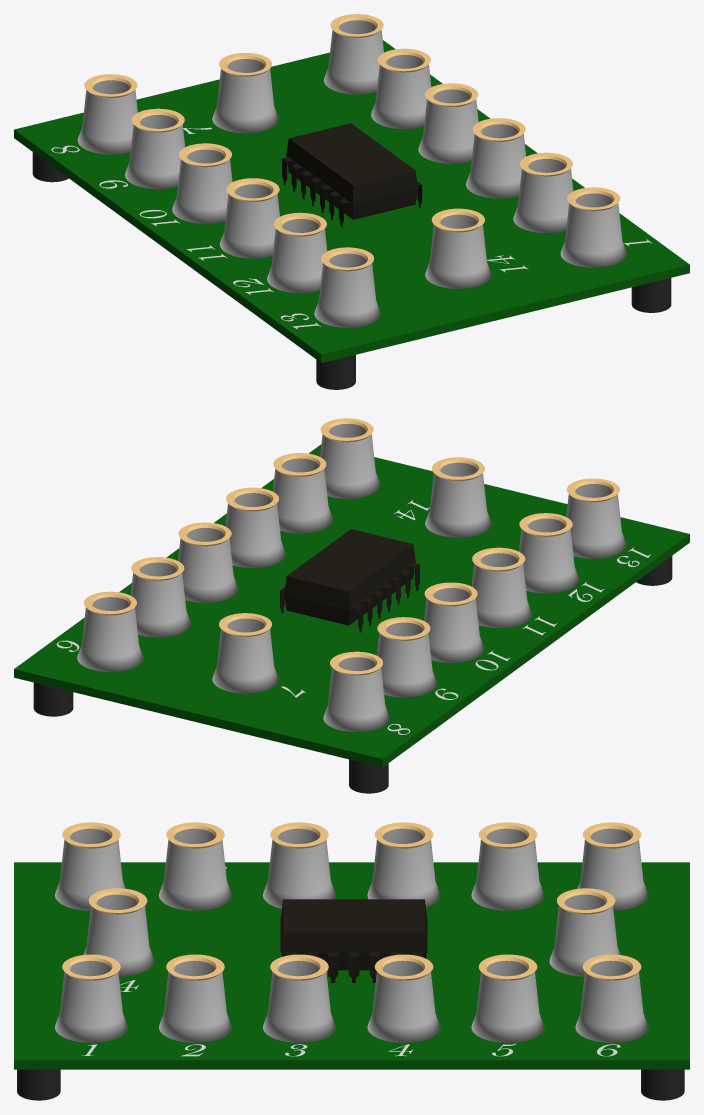
File: boolean_plate_vol2.fbx
3 renders of one model, top to bottom at view 1: azimuth 30°, elevation 25°; view 2: azimuth 150°, elevation 25°; view 3: azimuth 270°, elevation 25°, orthographic. The views are drawn at different scales.
Parts seen in each view (by area): view 1: Cube, Cube.001, Cylinder.017, Cylinder.008, Cylinder.025, Cylinder.028, Cylinder.020, Cylinder.005, Cylinder.011, Cylinder.002, Cylinder.014, Cylinder.015 (+8 smaller); view 2: Cube, Cube.001, Cylinder.025, Cylinder.028, Cylinder.002, Cylinder.023, Cylinder.011, Cylinder.005, Cylinder.014, Cylinder.020, Cylinder.017, Cylinder.008 (+8 smaller); view 3: Cube, Cube.001, Cylinder.020, Cylinder.022, Cylinder.023, Cylinder.010, Cylinder.003, Cylinder.014, Cylinder.015, Cylinder.017, Cylinder.011, Cylinder.005 (+7 smaller).
Part boxes in pixels (x1,y1,x2,y2): Cube: (14, 40, 689, 362); Cube.001: (282, 123, 422, 226); Cylinder.017: (560, 187, 626, 267); Cylinder.008: (314, 247, 380, 327); Cylinder.025: (212, 52, 278, 133); Cylinder.028: (425, 208, 491, 288); Cylinder.020: (418, 83, 478, 163); Cylinder.005: (172, 143, 232, 223); Cylinder.011: (219, 178, 279, 258); Cylinder.002: (77, 74, 137, 154); Cylinder.014: (466, 118, 526, 198); Cylinder.015: (513, 152, 573, 232); Cube: (14, 444, 689, 767); Cube.001: (280, 529, 419, 632); Cylinder.025: (212, 613, 278, 693); Cylinder.028: (425, 457, 491, 537); Cylinder.002: (323, 651, 389, 731); Cylinder.023: (77, 591, 143, 671); Cylinder.011: (471, 547, 531, 627); Cylinder.005: (424, 582, 484, 662); Cylinder.014: (225, 487, 285, 567); Cylinder.020: (178, 522, 238, 602); Cylinder.017: (320, 418, 380, 498); Cylinder.008: (566, 478, 626, 558); Cube: (14, 862, 689, 1069); Cube.001: (280, 899, 427, 982); Cylinder.020: (367, 954, 440, 1042); Cylinder.022: (471, 954, 544, 1042); Cylinder.023: (575, 954, 648, 1042); Cylinder.010: (159, 822, 231, 910); Cylinder.003: (471, 822, 544, 910); Cylinder.014: (263, 954, 335, 1042); Cylinder.015: (159, 954, 231, 1042); Cylinder.017: (55, 954, 127, 1042); Cylinder.011: (263, 822, 335, 908); Cylinder.005: (367, 822, 440, 907).
Size of the model in its own units: 90 by 22.56 by 130.
